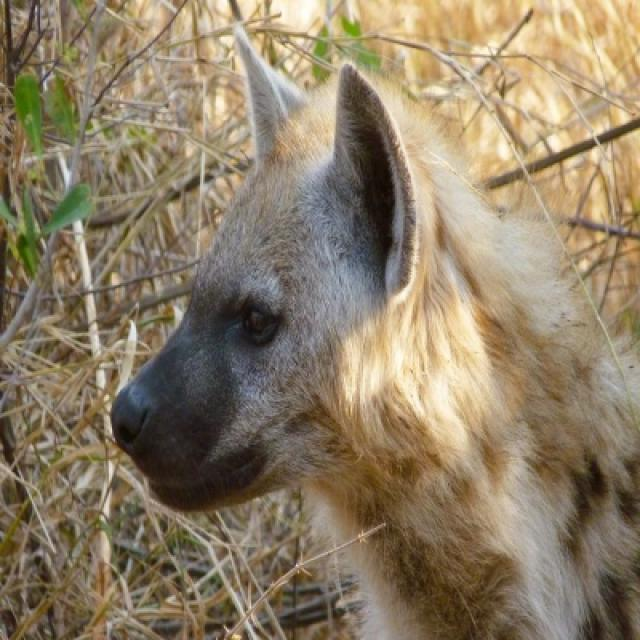hyena: (109, 22, 638, 638)
